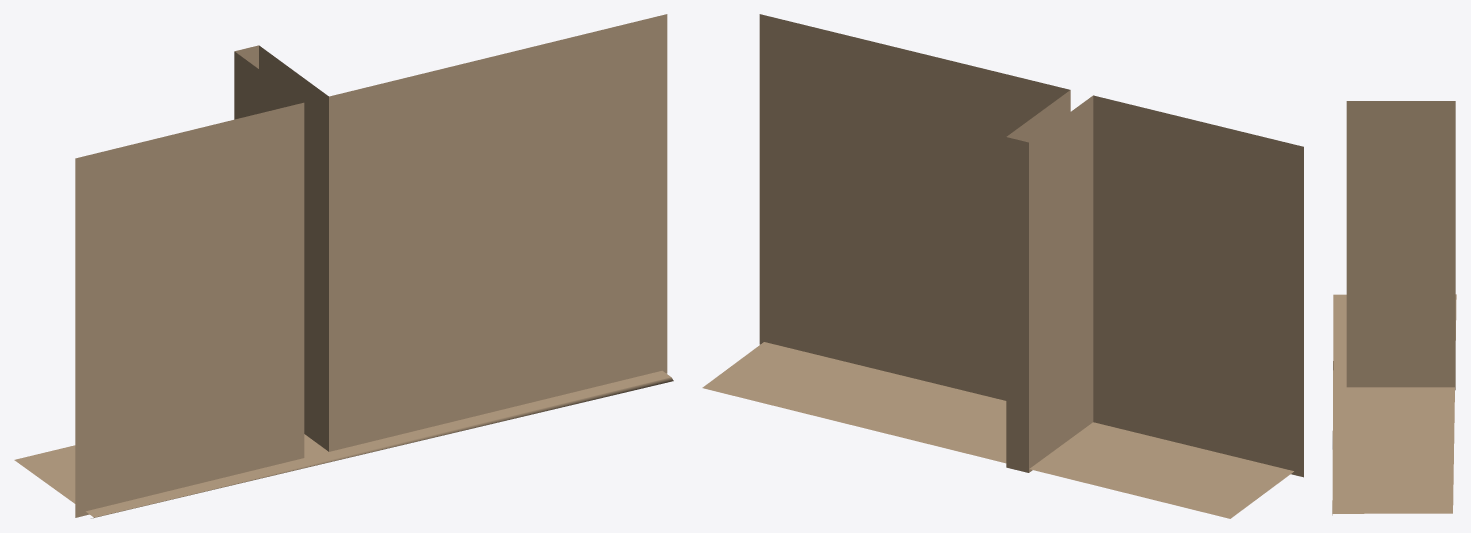
The model's file is background-building.fbx.
3 views of the same model, side by side, from view 1: azimuth 30°, elevation 25°; view 2: azimuth 150°, elevation 25°; view 3: azimuth 270°, elevation 25° (orthographic). The views are drawn at different scales.
Parts seen in each view (by area): view 1: Cube.011, Cube.010; view 2: Cube.011, Cube.010; view 3: Cube.011, Cube.010.
Boxes of the visible parts, <box> form: Cube.011: <box>75,14,667,517</box>; Cube.010: <box>14,370,673,518</box>; Cube.011: <box>759,14,1303,477</box>; Cube.010: <box>702,342,1293,518</box>; Cube.011: <box>1346,101,1455,390</box>; Cube.010: <box>1332,294,1456,515</box>.
Size of the model in its own units: 2155 by 1251 by 503.
